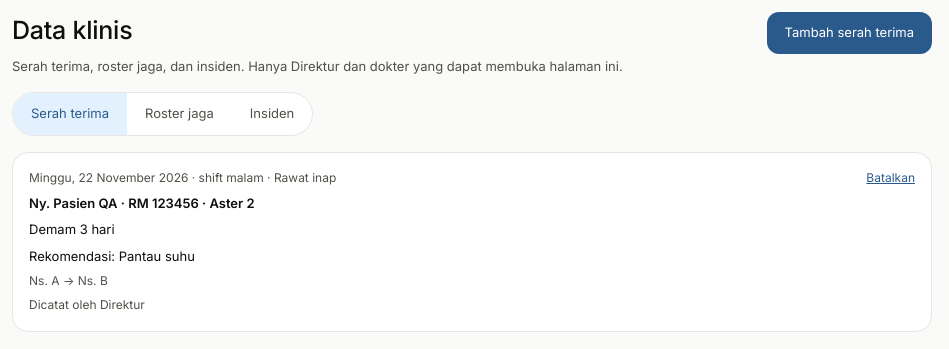
Test case: ClinicalBoard › shows one kind at a time and switches with the tabs
expect the text "Ny. Pasien QA · RM 123456 · Aster 2" is shown: met, box [29,195,255,211]
expect the text "Obat hampir tertukar" is not shown: met
Click the button "Insiden".
click(272, 114)  # box [232,93,312,135]
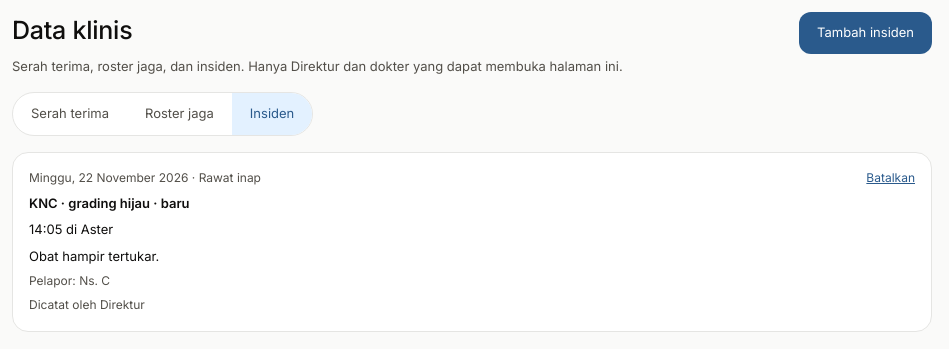
expect the text "Obat hampir tertukar." is shown: met, box [29,248,159,264]
expect the text "Ny. Pasien QA" is gone: met
